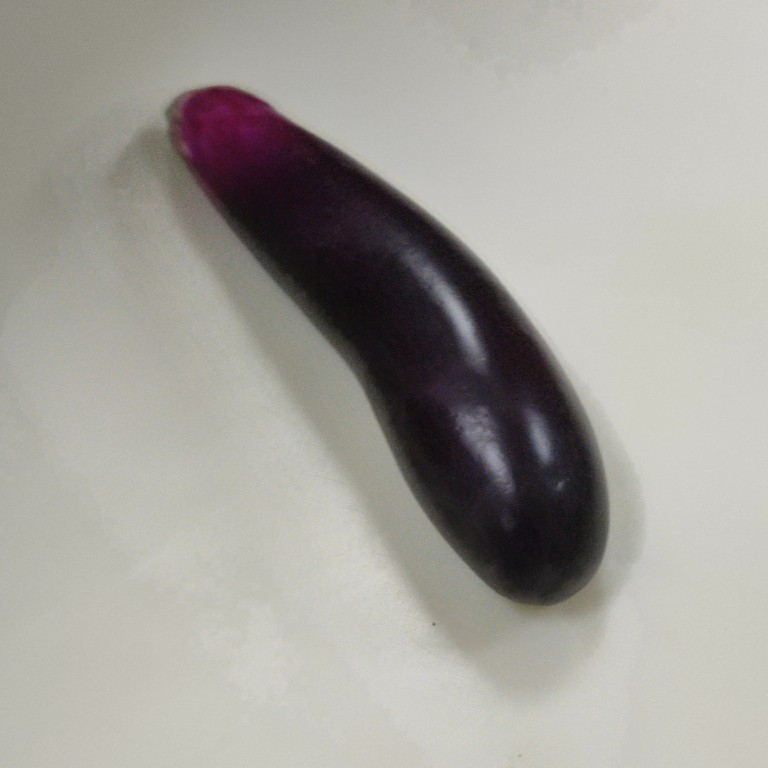fruit_eggplant: (159, 83, 615, 611)
